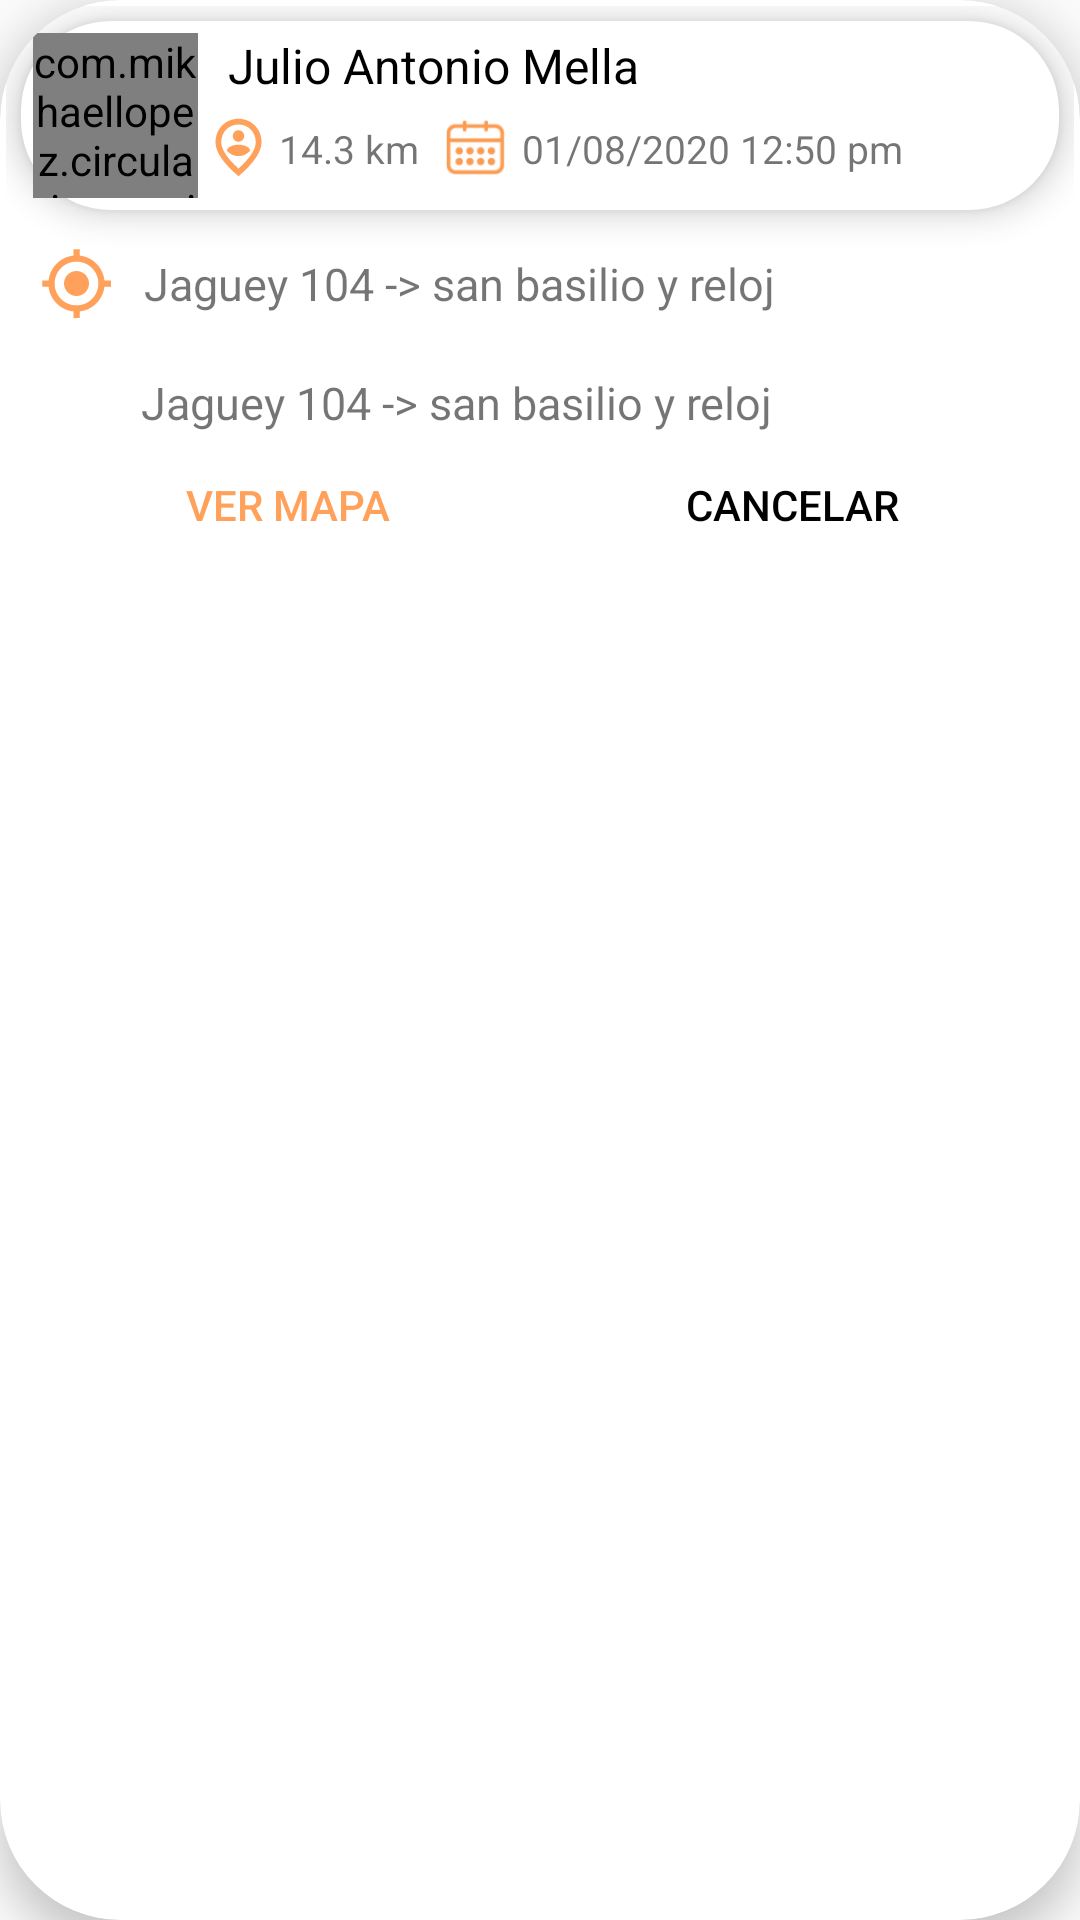

Icons on this 1080x1920 Android screen, each with its box as (x1, y1, x2, y2):
calendar: (446, 120, 505, 175)
location: (42, 249, 111, 318)
person pin out: (215, 118, 262, 176)
